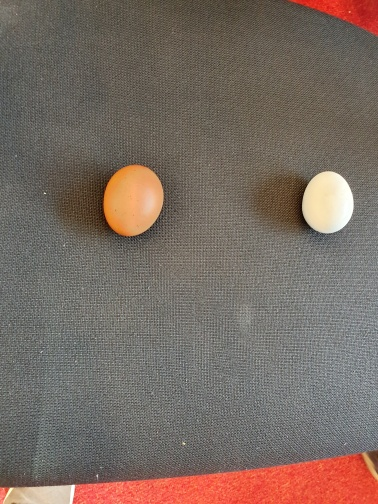egg: (103, 163, 165, 239), (301, 171, 354, 236)
